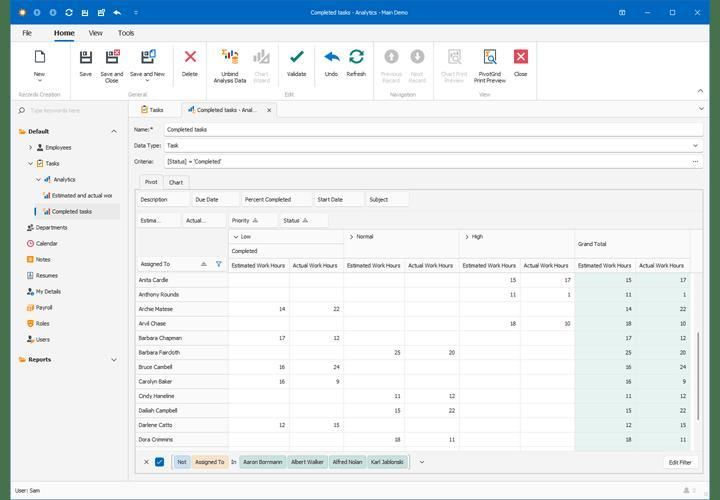button: (34, 204, 120, 220), (182, 104, 278, 117), (665, 457, 700, 470), (139, 175, 166, 190), (165, 177, 189, 190)
checkbox: (155, 458, 166, 468)
dropdown: (165, 140, 704, 153), (230, 232, 345, 245), (29, 128, 119, 137), (28, 356, 119, 364)
icon: (140, 48, 159, 68), (221, 48, 241, 66), (252, 48, 272, 66), (348, 49, 367, 67), (484, 48, 501, 68), (105, 48, 121, 68), (384, 49, 402, 66), (324, 51, 343, 67), (448, 48, 464, 67), (514, 49, 530, 67), (290, 49, 306, 66), (410, 49, 427, 65), (184, 50, 200, 66), (79, 50, 94, 66), (35, 49, 47, 65), (26, 240, 37, 250), (26, 271, 36, 282), (27, 255, 36, 266), (37, 158, 45, 170), (37, 144, 46, 154), (19, 128, 28, 137), (44, 176, 53, 185), (26, 224, 35, 233), (27, 320, 36, 329), (27, 335, 36, 344), (44, 192, 52, 201), (28, 305, 36, 314), (18, 357, 28, 364), (28, 289, 35, 297)
input: (165, 156, 704, 170), (165, 124, 704, 137), (243, 193, 314, 206), (139, 193, 191, 208), (194, 193, 240, 208), (281, 214, 330, 228), (230, 214, 278, 228), (139, 214, 183, 229), (317, 193, 364, 207), (185, 215, 228, 229), (368, 194, 410, 206)
label: (134, 141, 165, 151), (133, 127, 156, 135), (133, 159, 155, 167)
table: (137, 258, 692, 448)
